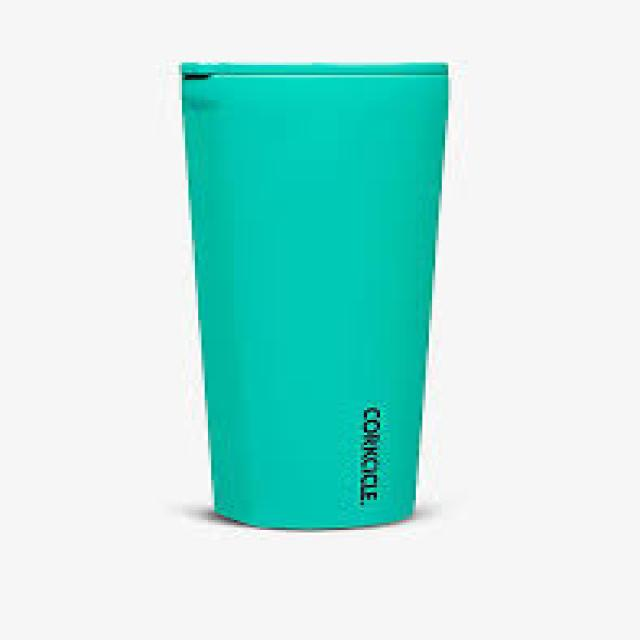bottle: (178, 61, 452, 531)
